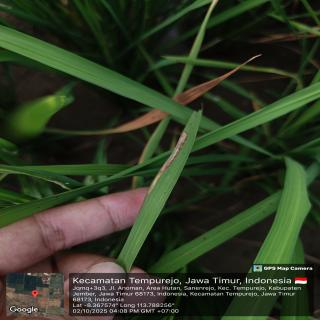Blast: (146, 130, 194, 197)
